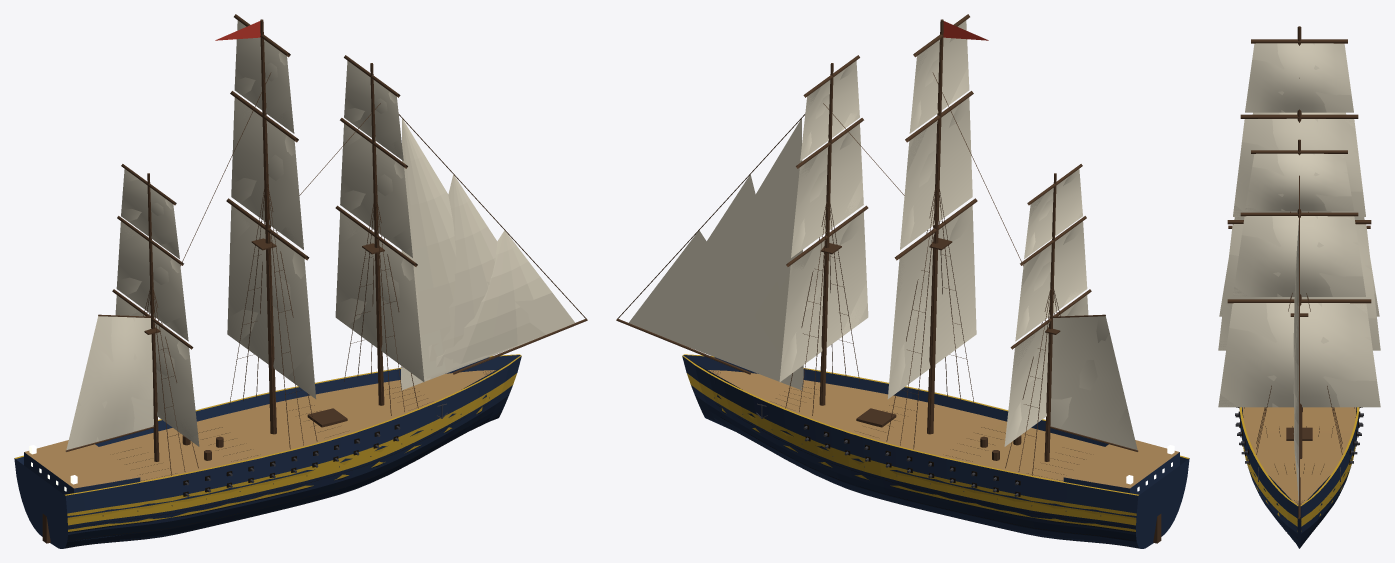
File: frigate.glb
The picture shows the model from 3 angles, left to right: view 1: azimuth 30°, elevation 25°; view 2: azimuth 150°, elevation 25°; view 3: azimuth 270°, elevation 25°; orthographic projection. The views are drawn at different scales.
Visible parts, largest first — view 1: LOD0_Body, LOD2_Body, LOD2_m1_SquareSail, LOD2_m0_SquareSail, LOD2_m2_SquareSail, LOD1_Body, LOD0_m2_AftSail, LOD0_m1_SquareSail, LOD1_m1_SquareSail, LOD0_m0_SquareSail, LOD1_m2_SquareSail, LOD1_m0_SquareSail (+2 smaller); view 2: LOD0_Body, LOD2_Body, LOD2_m1_SquareSail, LOD2_m0_SquareSail, LOD1_Body, LOD2_m2_SquareSail, LOD2_m2_AftSail, LOD0_m1_SquareSail, LOD0_m0_SquareSail, LOD1_m0_SquareSail, LOD0_m2_SquareSail, LOD1_m1_SquareSail (+3 smaller); view 3: LOD0_m0_SquareSail, LOD0_m1_SquareSail, LOD0_Body, LOD2_Body, LOD1_m0_SquareSail, LOD1_m1_SquareSail, LOD1_Body, LOD0_m2_SquareSail, LOD2_m0_SquareSail.
Part boxes in pixels (x1,y1,x2,y2): LOD0_Body: (14,19,587,548); LOD2_Body: (15,355,520,541); LOD2_m1_SquareSail: (228,21,315,398); LOD2_m0_SquareSail: (336,60,422,380); LOD2_m2_SquareSail: (117,170,199,445); LOD1_Body: (17,21,587,548); LOD0_m2_AftSail: (65,314,154,451); LOD0_m1_SquareSail: (226,14,315,398); LOD1_m1_SquareSail: (230,21,315,398); LOD0_m0_SquareSail: (335,55,424,381); LOD1_m2_SquareSail: (115,169,198,446); LOD1_m0_SquareSail: (338,98,423,380); LOD0_Body: (616,19,1189,548); LOD2_Body: (629,118,1188,542); LOD2_m1_SquareSail: (889,27,976,390); LOD2_m0_SquareSail: (781,66,866,373); LOD1_Body: (616,21,1186,548); LOD2_m2_SquareSail: (1006,173,1088,438); LOD2_m2_AftSail: (1051,316,1136,449); LOD0_m1_SquareSail: (887,14,977,398); LOD0_m0_SquareSail: (779,55,868,381); LOD1_m0_SquareSail: (792,86,867,337); LOD0_m2_SquareSail: (1004,164,1091,446); LOD1_m1_SquareSail: (895,48,976,350); LOD0_m0_SquareSail: (1218,150,1376,407); LOD0_m1_SquareSail: (1218,39,1376,350); LOD0_Body: (1235,26,1363,548); LOD2_Body: (1242,407,1356,518); LOD1_m0_SquareSail: (1218,153,1380,407); LOD1_m1_SquareSail: (1218,43,1380,350); LOD1_Body: (1241,27,1357,548); LOD0_m2_SquareSail: (1219,112,1375,316); LOD2_m0_SquareSail: (1218,154,1367,407).
Size of the model in its own units: 63.31 by 53.21 by 17.82.
2 materials, 1 textured.
